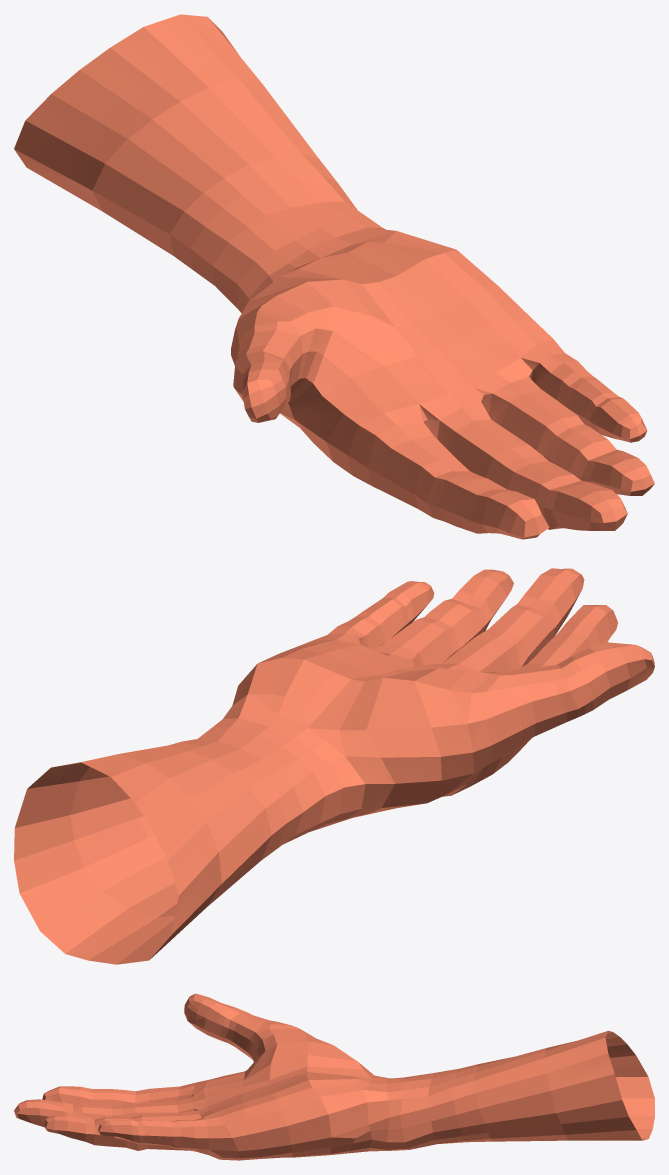
Rendered from 1_7_HandPolygonalRighFront.obj.
3 views of the same model, one above another, from view 1: azimuth 30°, elevation 25°; view 2: azimuth 150°, elevation 25°; view 3: azimuth 270°, elevation 25° (orthographic). The views are drawn at different scales.
Visible parts, largest first — view 1: hand_femme_polySurface1.008; view 2: hand_femme_polySurface1.008; view 3: hand_femme_polySurface1.008.
Boxes of the visible parts, box(x1,y1,x2,y2) form: hand_femme_polySurface1.008: box(14, 14, 654, 539); hand_femme_polySurface1.008: box(14, 568, 654, 964); hand_femme_polySurface1.008: box(14, 993, 654, 1160).
Bounding box in the file's own units: 0.0733 × 0.042 × 0.1908.
